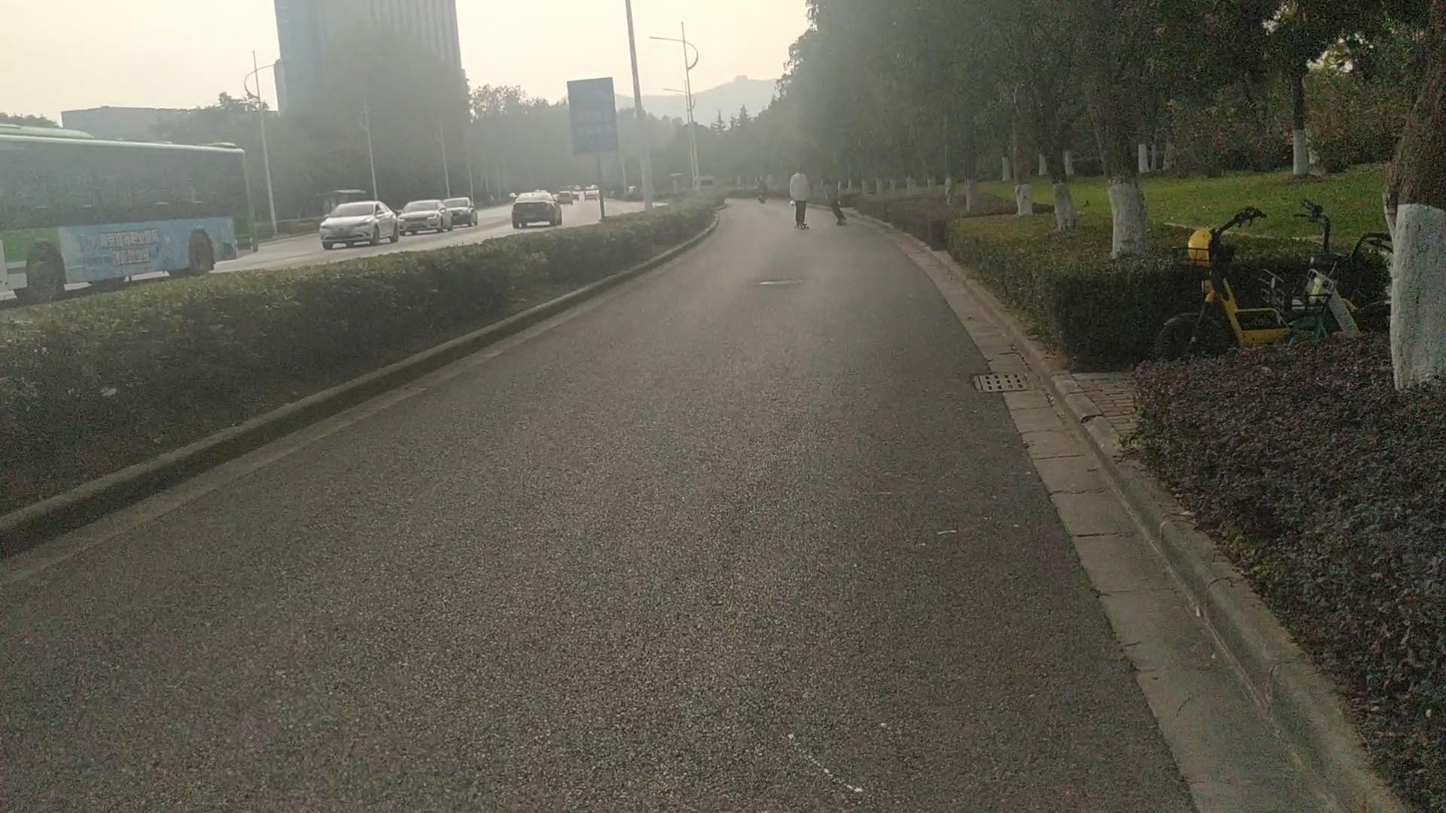car: (320, 199, 398, 249), (509, 190, 560, 231), (400, 199, 445, 236), (440, 196, 477, 229), (555, 187, 590, 204)
